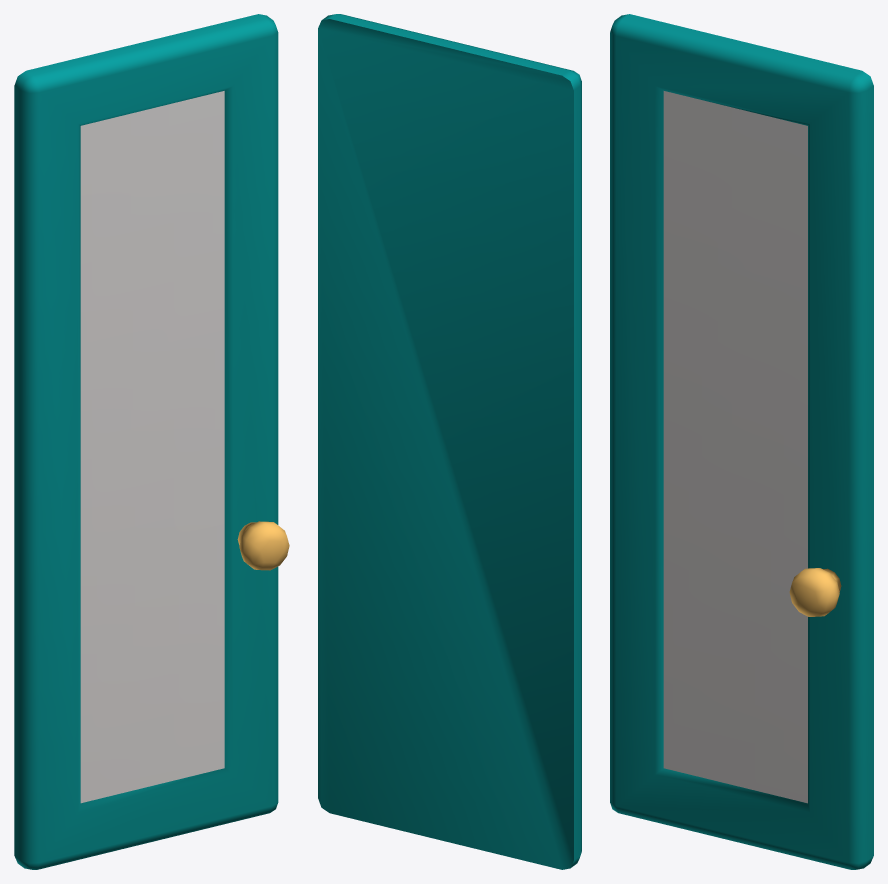
File: Closet_06_Door_1.fbx
3 renders of one model, left to right at view 1: azimuth 30°, elevation 25°; view 2: azimuth 150°, elevation 25°; view 3: azimuth 330°, elevation 25°, orthographic.
Visible parts, largest first — view 1: Closet_06_Door_1; view 2: Closet_06_Door_1; view 3: Closet_06_Door_1.
Boxes of the visible parts, <box> form: Closet_06_Door_1: <box>14,14,289,869</box>; Closet_06_Door_1: <box>318,14,581,869</box>; Closet_06_Door_1: <box>610,14,873,869</box>.
Bounding box in the file's own units: 33 × 7.98 × 97.9.
